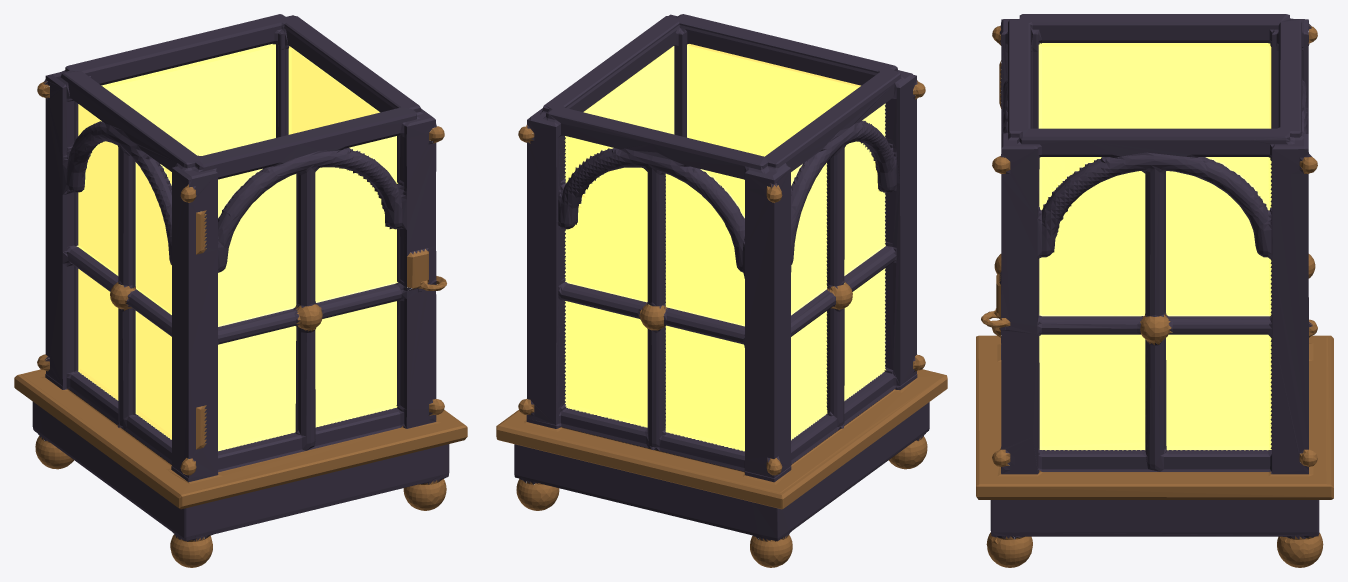
The model's file is lantern_hero_lower.glb.
3 views of the same model, side by side, from view 1: azimuth 30°, elevation 25°; view 2: azimuth 150°, elevation 25°; view 3: azimuth 270°, elevation 25° (orthographic). The views are drawn at different scales.
Parts seen in each view (by area): view 1: lantern_hero_lower; view 2: lantern_hero_lower; view 3: lantern_hero_lower.
Boxes of the visible parts, x1,y1,x2,y2 form: lantern_hero_lower: (14,14,467,567); lantern_hero_lower: (496,14,947,567); lantern_hero_lower: (976,14,1333,567).
Bounding box in the file's own units: 0.37 × 0.49 × 0.37.
